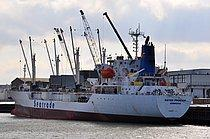Ship: (5, 33, 196, 130)
